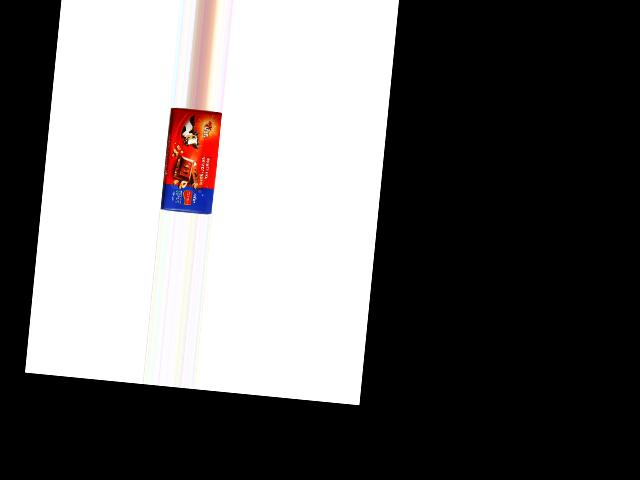chocolate: (160, 106, 221, 214)
